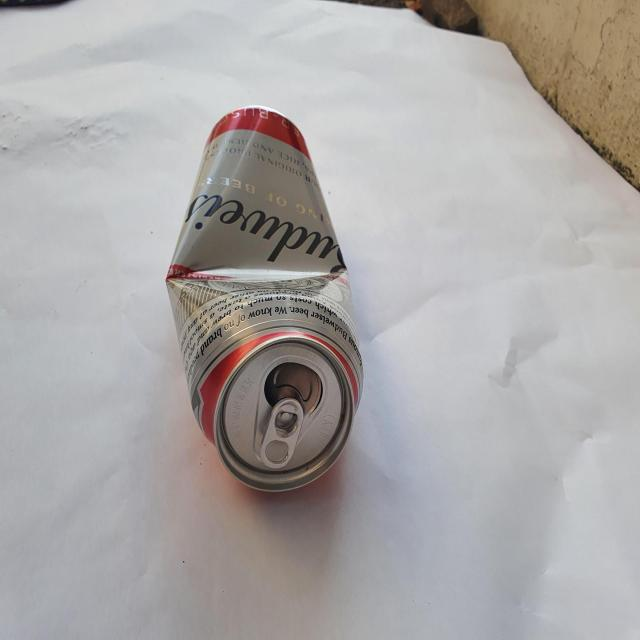can: (166, 105, 363, 491)
